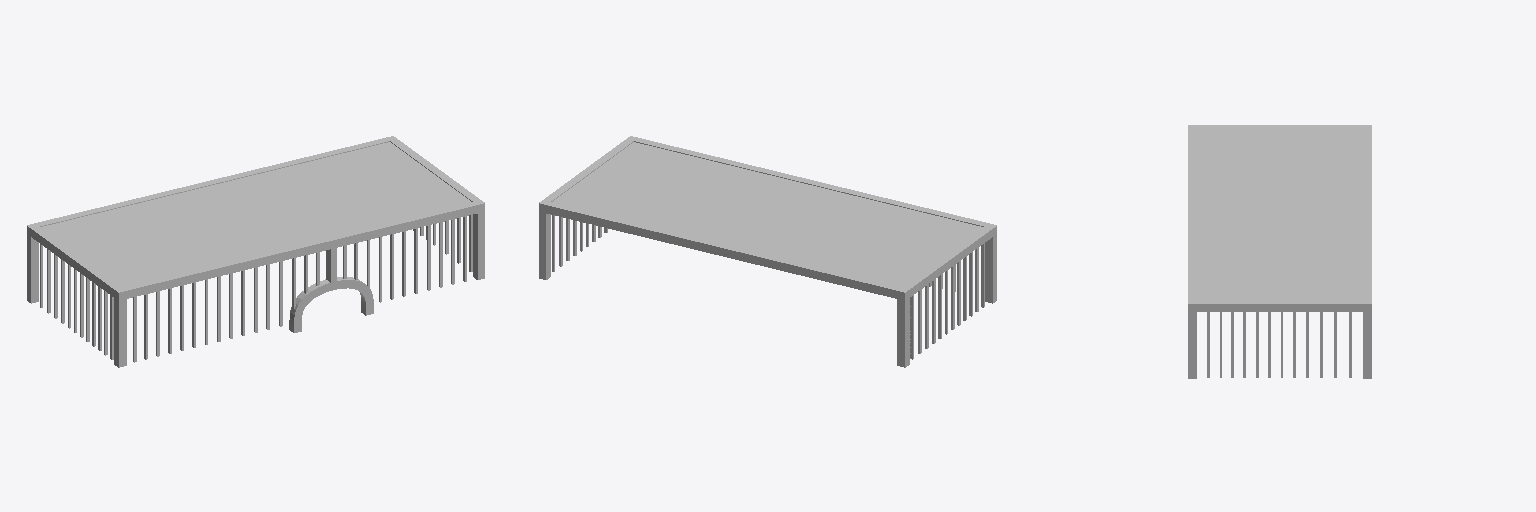
Rendered from varillas.obj.
The picture shows the model from 3 angles: view 1: azimuth 30°, elevation 25°; view 2: azimuth 150°, elevation 25°; view 3: azimuth 270°, elevation 25°; orthographic projection.
Parts seen in each view (by area): view 1: group110_pasted__pCube70; view 2: group110_pasted__pCube70; view 3: group110_pasted__pCube70.
Part boxes in pixels (x1,y1,x2,y2): group110_pasted__pCube70: (27,136,484,367); group110_pasted__pCube70: (539,136,996,367); group110_pasted__pCube70: (1188,125,1371,378).
Size of the model in its own units: 23 by 5 by 10.